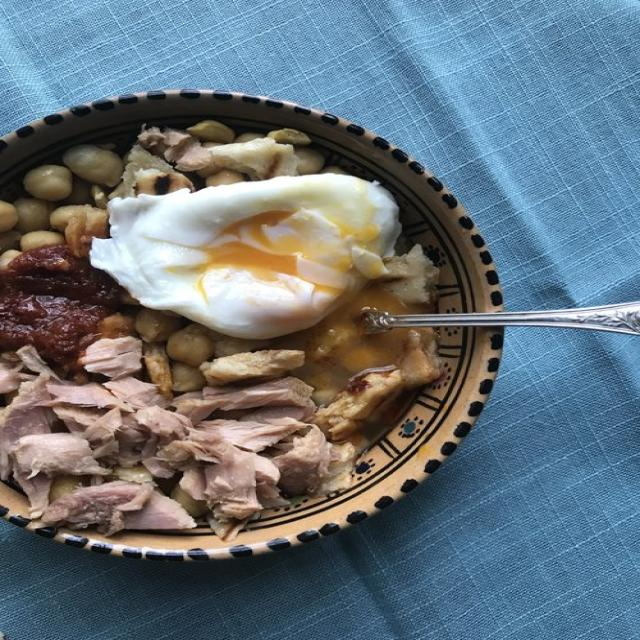Lablabi: (0, 120, 440, 539)
